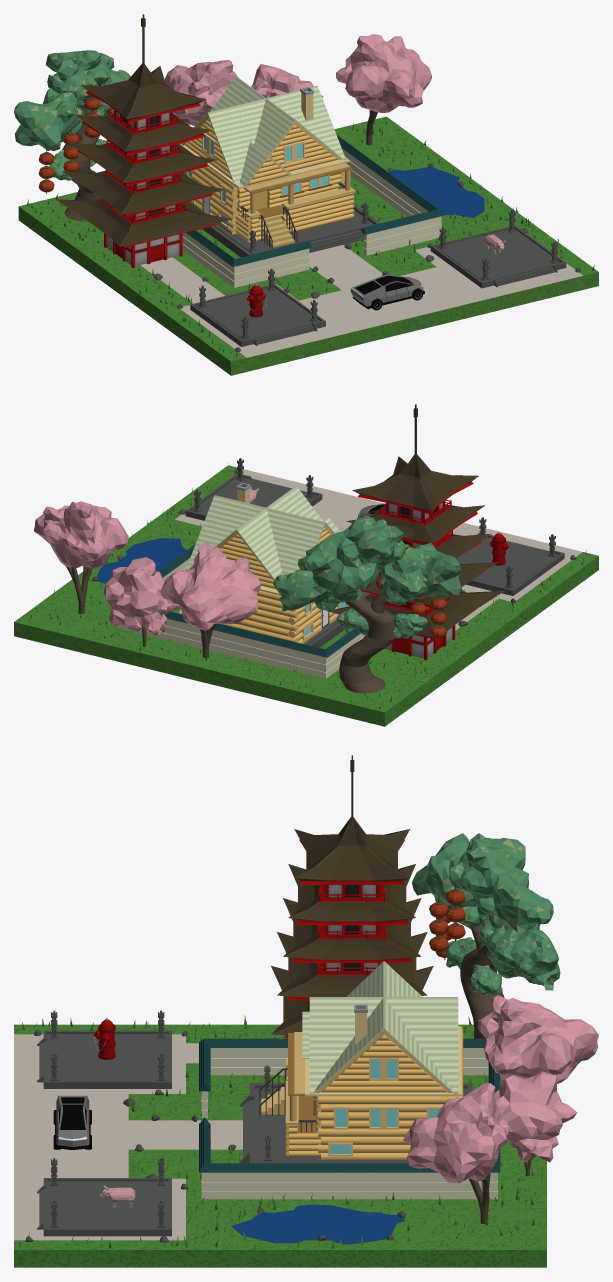
3 views of the same model, one above another, from view 1: azimuth 30°, elevation 25°; view 2: azimuth 150°, elevation 25°; view 3: azimuth 270°, elevation 25° (orthographic). The views are drawn at different scales.
Visible parts, largest first — view 1: Cube.005, Cube.1516, VEHICLES_CYBERTRUCK; view 2: Cube.005, Cube.1516, OBJRANDOM_FIRE_HYDRANT; view 3: Cube.005, Cube.1516, VEHICLES_CYBERTRUCK, OBJRANDOM_FIRE_HYDRANT.
Boxes of the visible parts, x1,y1,x2,y2 form: Cube.005: (14, 14, 598, 375); Cube.1516: (179, 77, 355, 248); VEHICLES_CYBERTRUCK: (350, 274, 424, 310); Cube.005: (14, 404, 598, 726); Cube.1516: (178, 482, 360, 643); OBJRANDOM_FIRE_HYDRANT: (489, 532, 509, 565); Cube.005: (14, 755, 598, 1267); Cube.1516: (259, 961, 463, 1159); VEHICLES_CYBERTRUCK: (53, 1095, 91, 1149); OBJRANDOM_FIRE_HYDRANT: (93, 1018, 115, 1059).
Size of the model in its own units: 4528 by 2668 by 4389.
43 materials, 6 textured.
